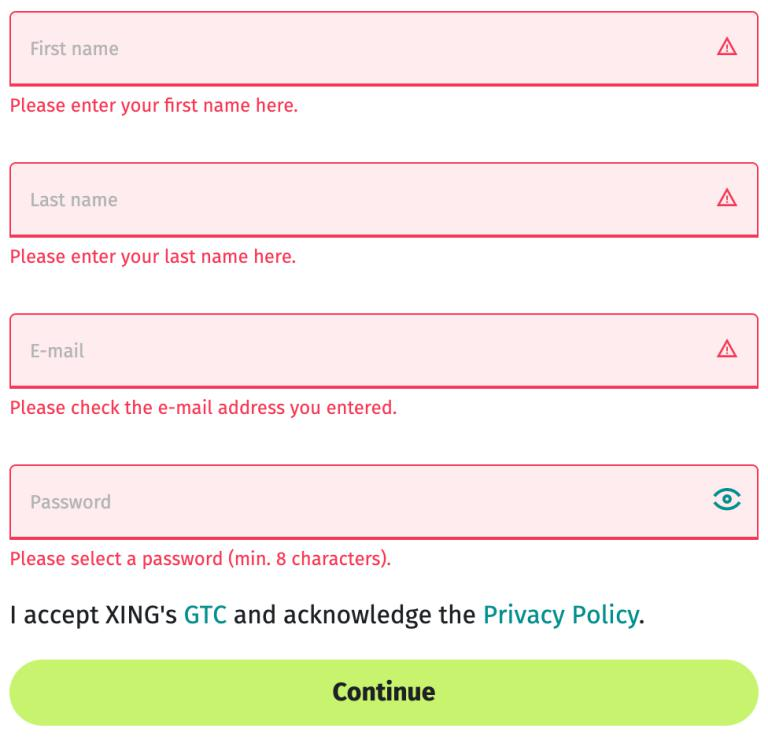error_field: (9, 9, 760, 89), (8, 161, 758, 238), (9, 464, 759, 541), (9, 312, 759, 388)
error_message: (7, 397, 396, 417), (9, 549, 391, 568), (6, 94, 300, 116), (7, 245, 300, 265)
